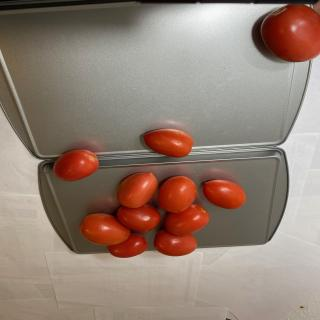Tomato: (260, 3, 320, 62), (79, 213, 130, 246), (143, 128, 194, 158), (157, 176, 197, 213), (117, 172, 158, 208), (53, 150, 99, 182), (165, 204, 210, 235), (203, 179, 246, 209), (117, 204, 161, 232), (153, 229, 198, 256), (107, 233, 148, 258)
